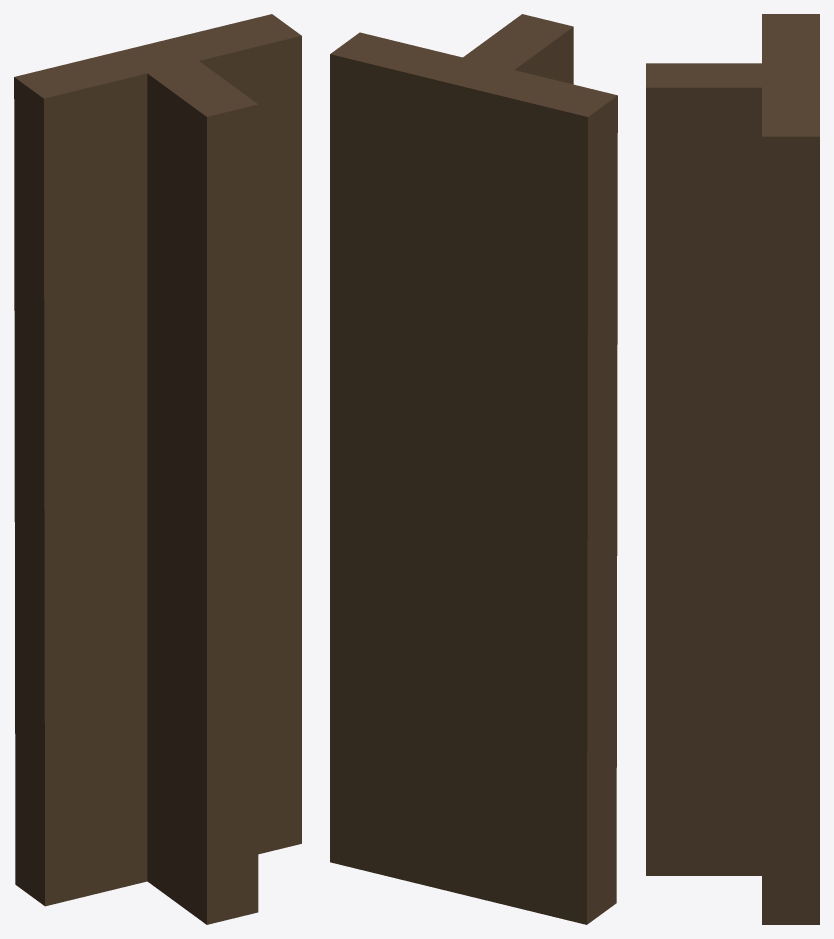
Rendered from wall_small_3ways.fbx.
3 renders of one model, left to right at view 1: azimuth 30°, elevation 25°; view 2: azimuth 150°, elevation 25°; view 3: azimuth 270°, elevation 25°, orthographic. The views are drawn at different scales.
Parts seen in each view (by area): view 1: wall_small_3ways; view 2: wall_small_3ways; view 3: wall_small_3ways.
Boxes of the visible parts, x1,y1,x2,y2 form: wall_small_3ways: (14,14,301,924); wall_small_3ways: (330,14,617,924); wall_small_3ways: (646,14,819,924).
Bounding box in the file's own units: 100 × 300 × 60.
